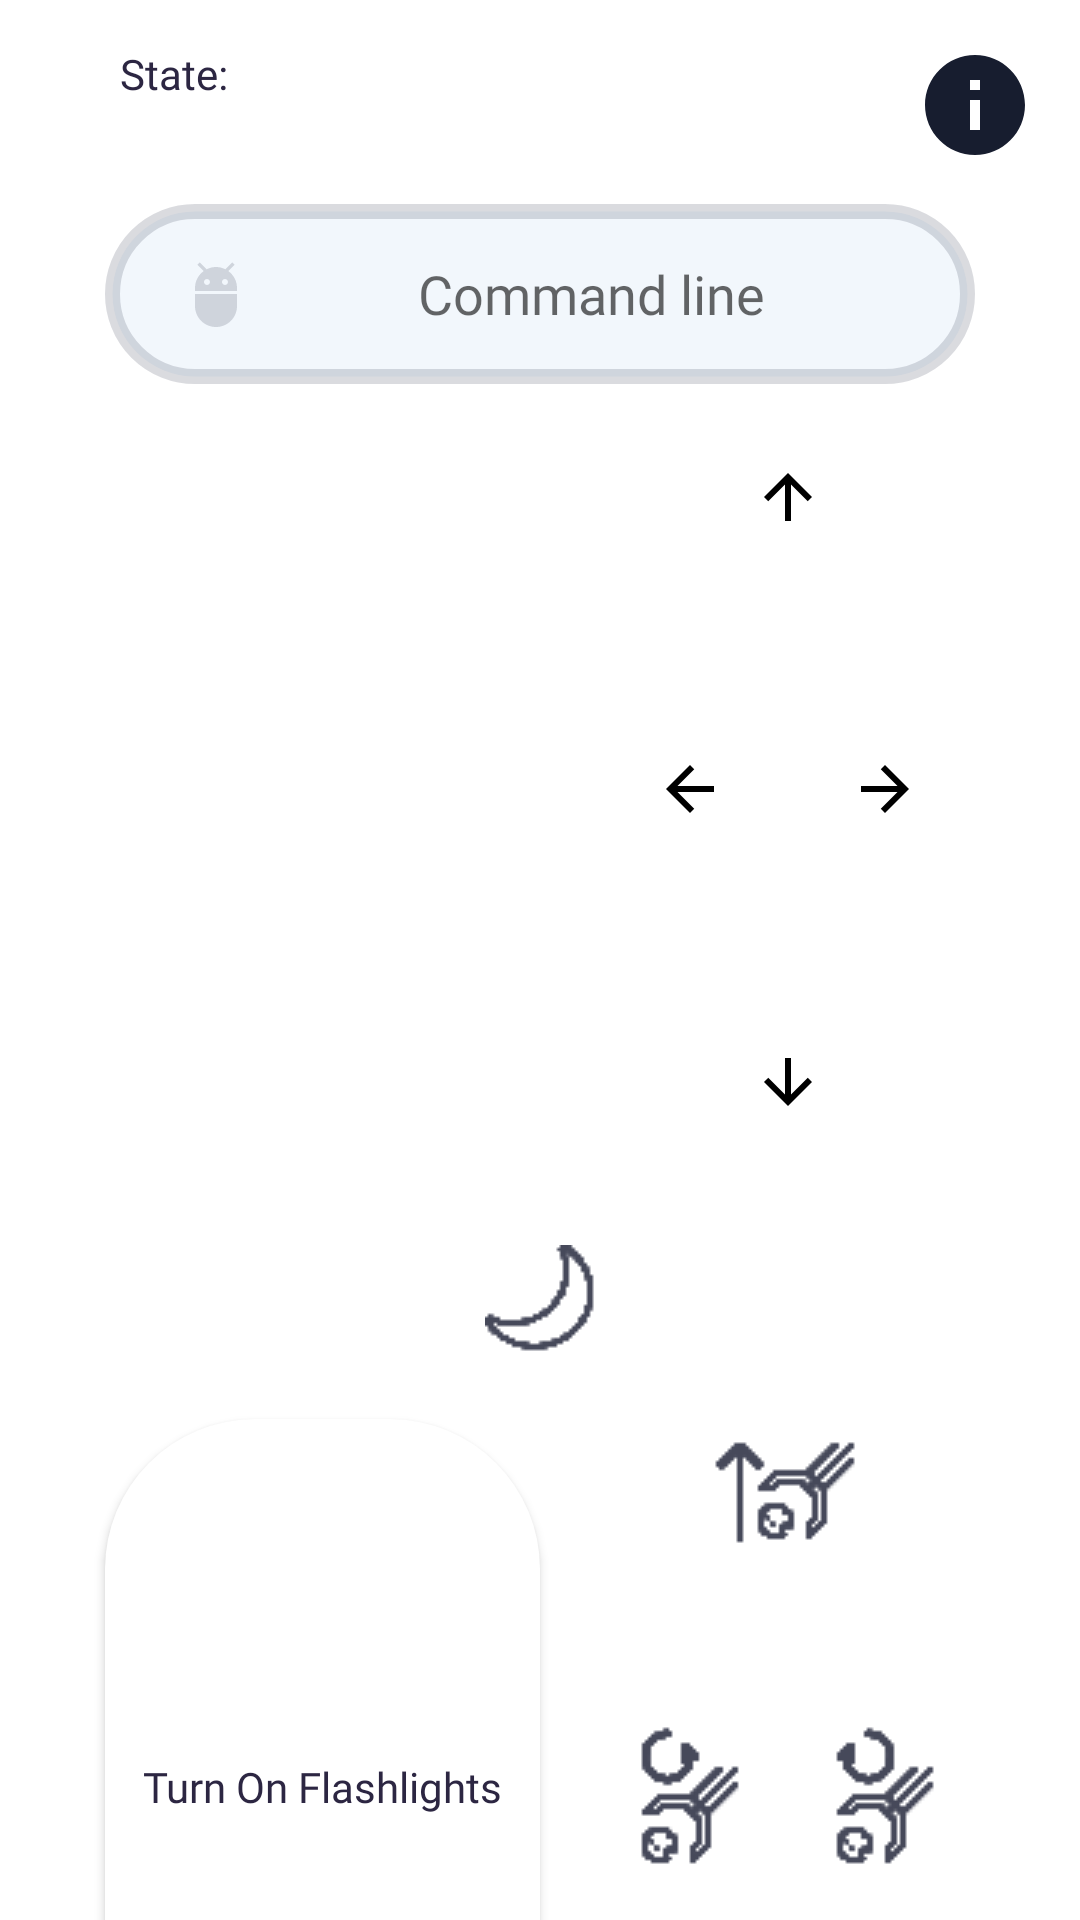

Screen size 1080×1920. Icon name, then its box in pixels as (x1, y1, x2, y2):
arrow left: (666, 765, 714, 813)
arrow right: (861, 765, 909, 813)
moon: (485, 1245, 594, 1351)
pincer up: (715, 1442, 855, 1543)
